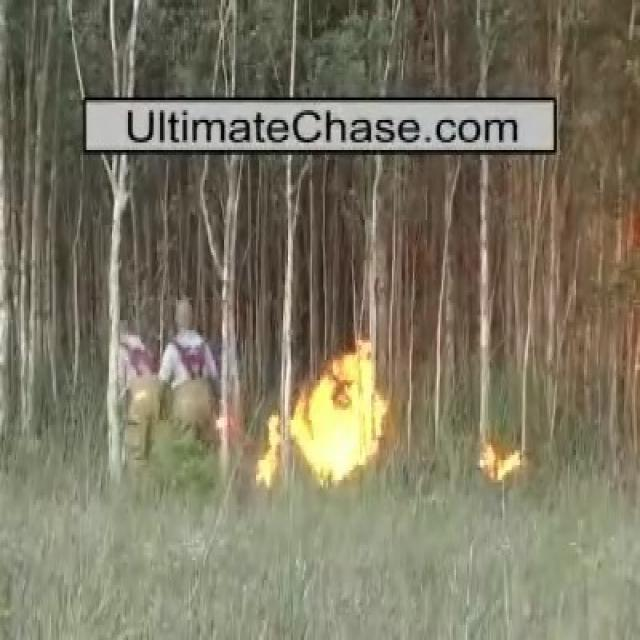fire: (254, 351, 386, 490), (481, 442, 523, 482)
